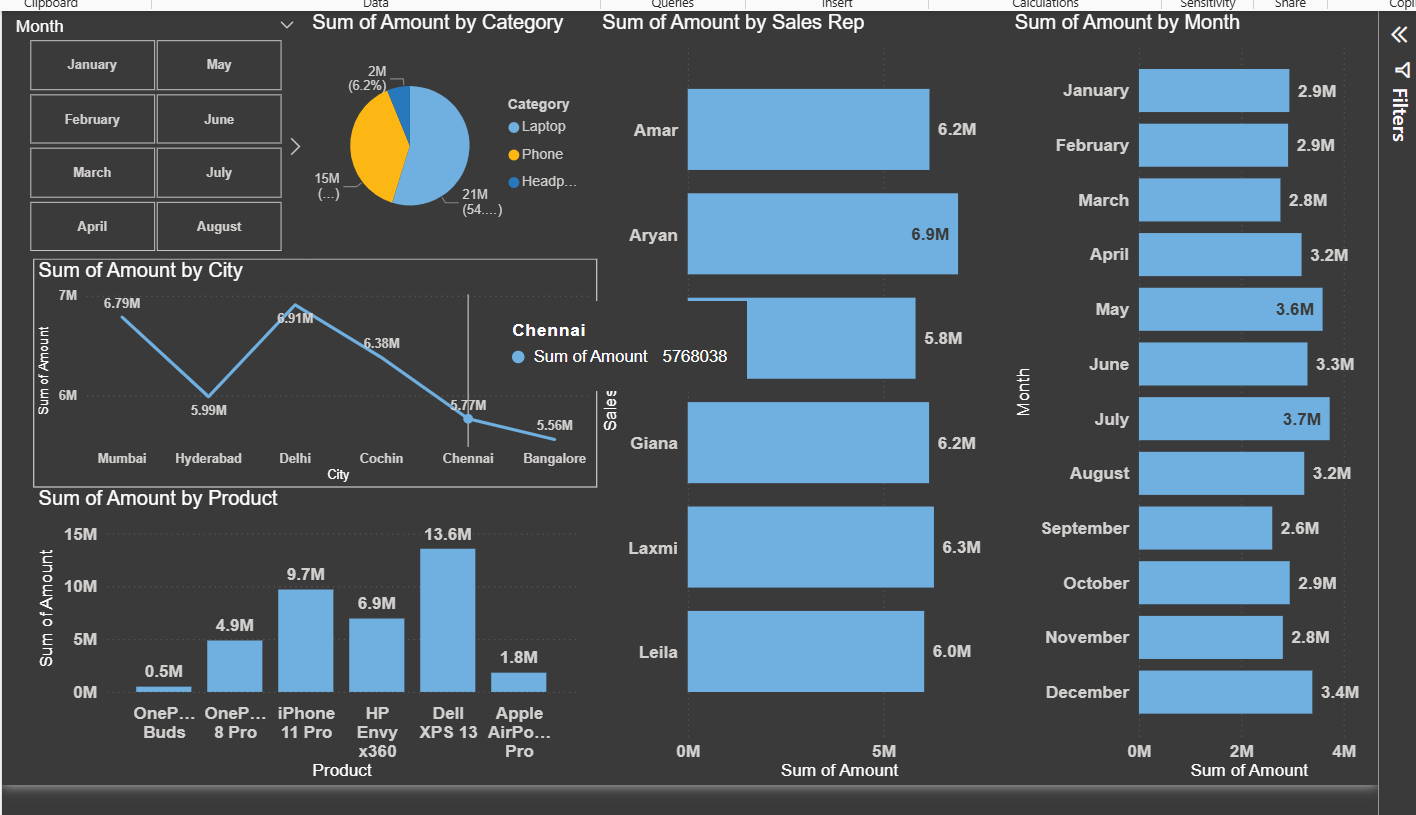

Layout of this report page (visuals, bound fields, positions):
{"tool":"powerbi","page":{"name":"Page 1","canvas":[1280,720],"ordinal":0},"visuals":[{"type":"clusteredBarChart","fields":{"Category":["Sheet1.Date.Variation.Date Hierarchy.Month"],"Y":["Sheet1.Amount"]},"box":[937.2,0,343.1,720.4],"z":0},{"type":"clusteredBarChart","fields":{"Category":["Sheet1.Sales Rep"],"Y":["Sheet1.Amount"]},"box":[553,0,384.2,720.4],"z":1000},{"type":"clusteredColumnChart","fields":{"Category":["Sheet1.Product"],"Y":["Sheet1.Amount"]},"box":[28.8,443.2,510.5,277.2],"z":2000},{"type":"lineChart","fields":{"Category":["Sheet1.City"],"Y":["Sheet1.Amount"]},"box":[29.1,230.2,524.4,212.8],"z":3000},{"type":"pieChart","fields":{"Category":["Sheet1.Category"],"Y":["Sheet1.Amount"]},"box":[283.7,0,269.8,230.2],"z":4000},{"type":"slicer","fields":{"Values":["Sheet1.Date.Variation.Date Hierarchy.Month"]},"box":[0,0,284,230.5],"z":4001}]}

Visuals, with their boxes on the page's 1280x720 design canvas (x1, y1, x2, y2). These are canvas units, not pixel positions in the 1416x815 screenshot, which may show the page scaled, cropped or inside an application window:
clusteredBarChart - Sheet1.Date.Variation.Date Hierarchy.Month x Sheet1.Amount: {"x1": 937, "y1": 0, "x2": 1280, "y2": 720}
clusteredBarChart - Sheet1.Sales Rep x Sheet1.Amount: {"x1": 553, "y1": 0, "x2": 937, "y2": 720}
clusteredColumnChart - Sheet1.Product x Sheet1.Amount: {"x1": 29, "y1": 443, "x2": 539, "y2": 720}
lineChart - Sheet1.City x Sheet1.Amount: {"x1": 29, "y1": 230, "x2": 554, "y2": 443}
pieChart - Sheet1.Category x Sheet1.Amount: {"x1": 284, "y1": 0, "x2": 554, "y2": 230}
slicer - Sheet1.Date.Variation.Date Hierarchy.Month: {"x1": 0, "y1": 0, "x2": 284, "y2": 230}
